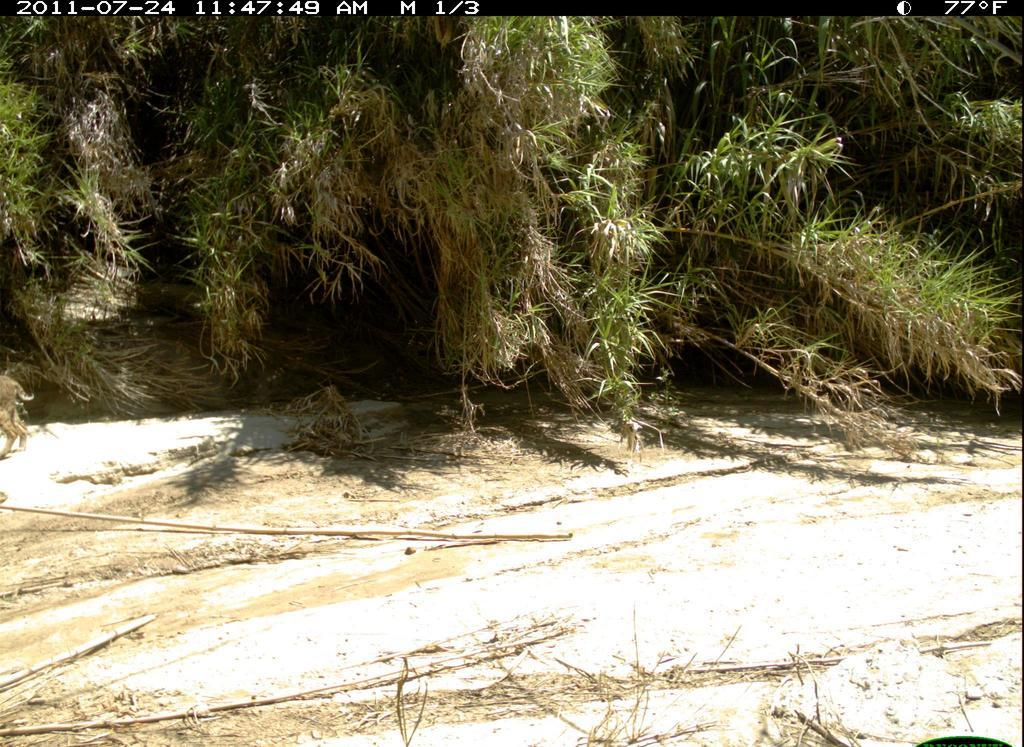bobcat: (1, 364, 39, 474)
